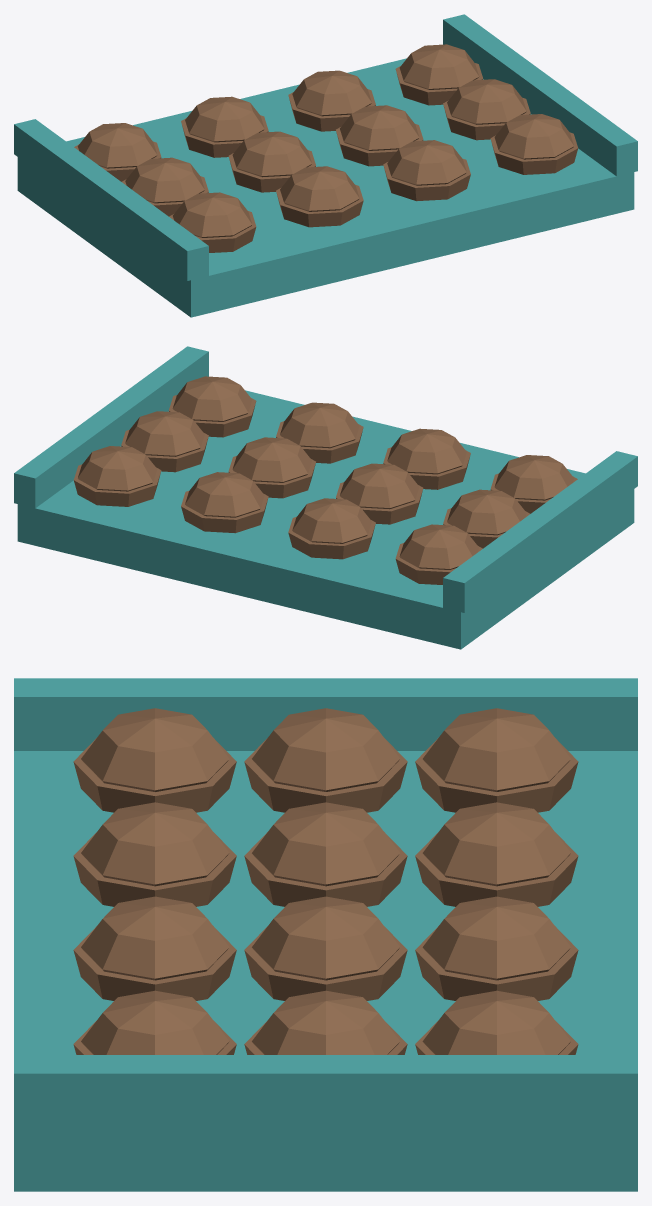
File: chocolate-and-confectionery-factory-shell-mould-tray-2395c6d2__36769.glb
3 views of the same model, one above another, from view 1: azimuth 30°, elevation 25°; view 2: azimuth 150°, elevation 25°; view 3: azimuth 270°, elevation 25° (orthographic). The views are drawn at different scales.
Parts seen in each view (by area): view 1: shell-mould-tray; view 2: shell-mould-tray; view 3: shell-mould-tray.
Boxes of the visible parts, bbox=[...] form: shell-mould-tray: bbox=[14, 14, 637, 317]; shell-mould-tray: bbox=[14, 346, 637, 649]; shell-mould-tray: bbox=[14, 678, 637, 1191].
Size of the model in its own units: 0.63 by 0.102 by 0.42.
